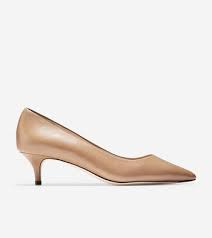woman_shoe: (14, 106, 197, 194)
